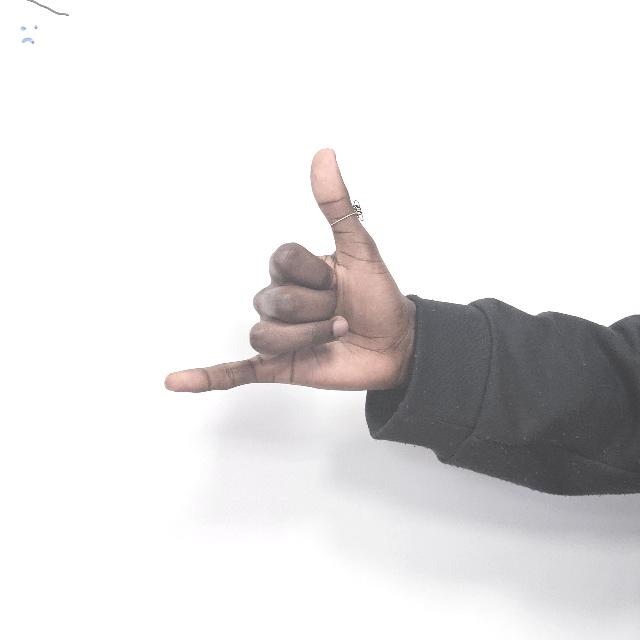Direita: (160, 142, 408, 430)
